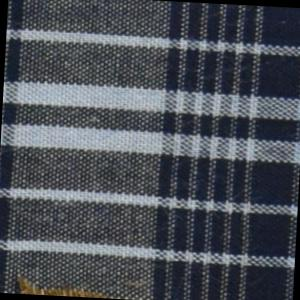Oil Stain: (14, 275, 115, 299)
